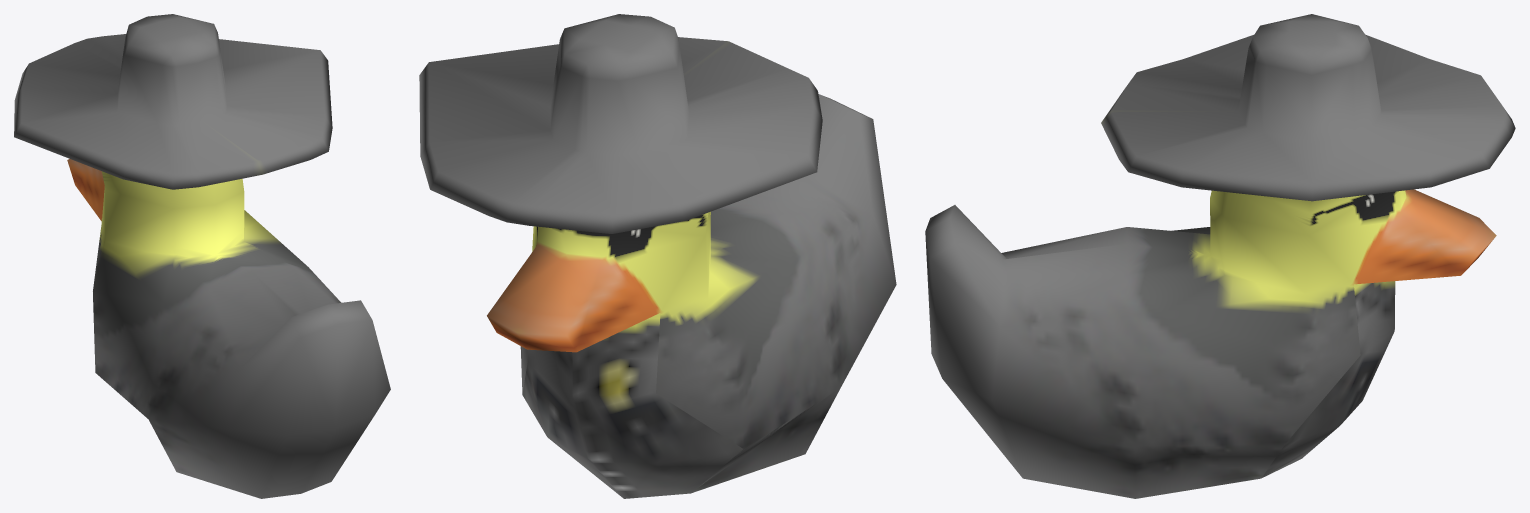
Rendered from duck_sierra.fbx.
3 renders of one model, left to right at view 1: azimuth 30°, elevation 25°; view 2: azimuth 150°, elevation 25°; view 3: azimuth 270°, elevation 25°, orthographic. The views are drawn at different scales.
Visible parts, largest first — view 1: sierra; view 2: sierra; view 3: sierra.
Boxes of the visible parts, bbox=[...] form: sierra: bbox=[14, 14, 390, 498]; sierra: bbox=[419, 14, 896, 498]; sierra: bbox=[925, 14, 1515, 498].
Bounding box in the file's own units: 0.1491 × 0.1678 × 0.2102.
